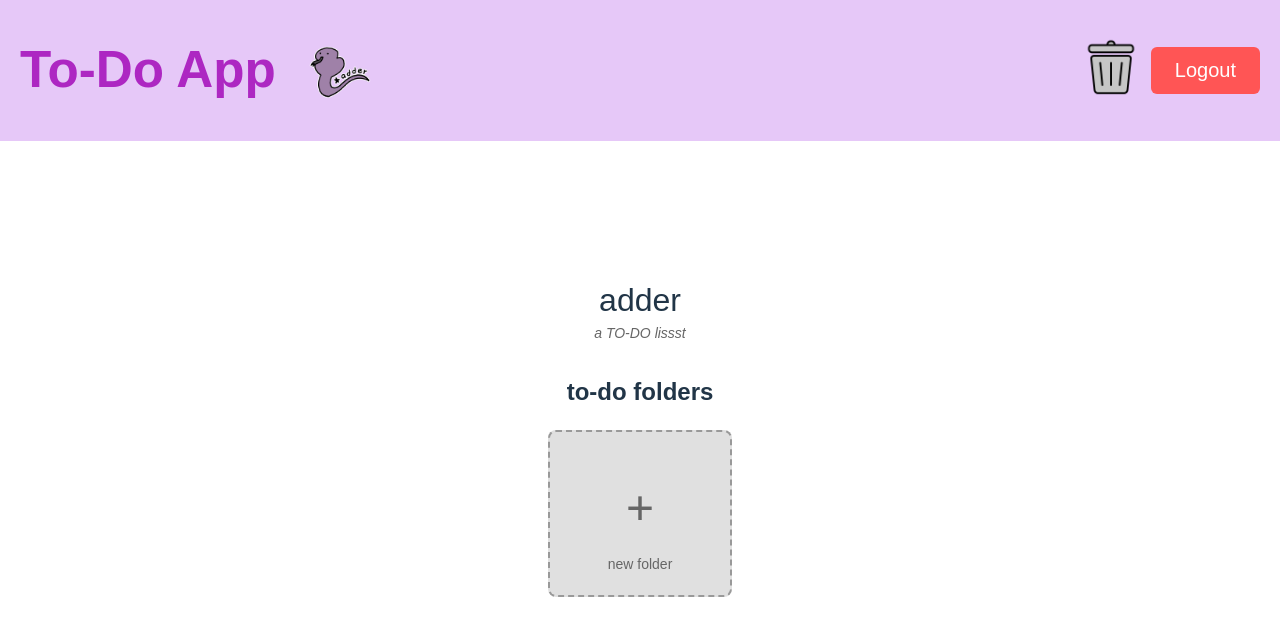
Test: click cancel
// waits until it finds the button
Click the text "new folder" at (640, 565), box left=608, top=554, right=672, bottom=575
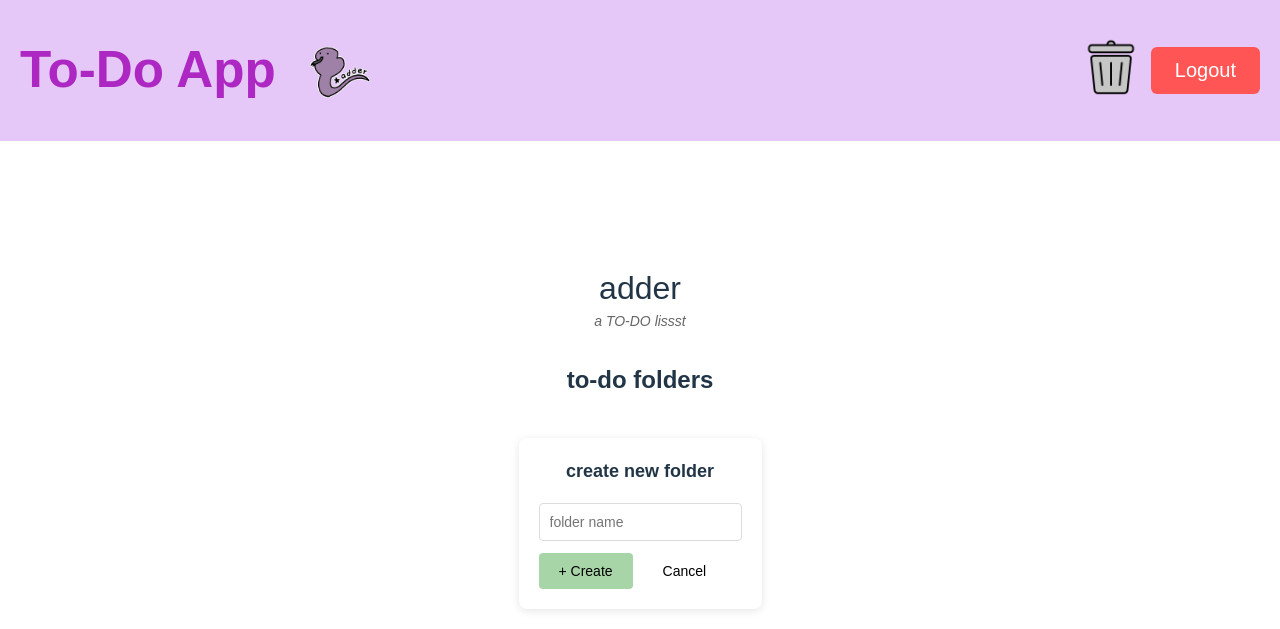
// clicks cancel
Click the button "Cancel" at (684, 571), box left=643, top=553, right=726, bottom=589
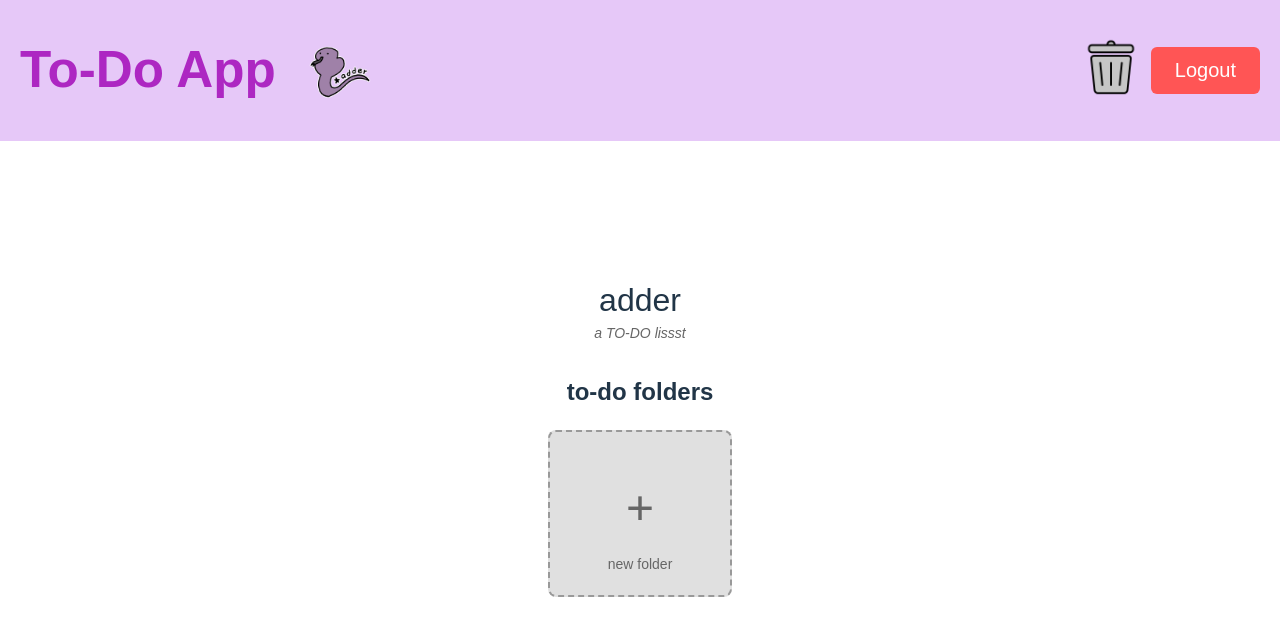
Check: the text "new folder" is shown, box left=608, top=554, right=672, bottom=575
Check: the heading "create new folder" is gone
